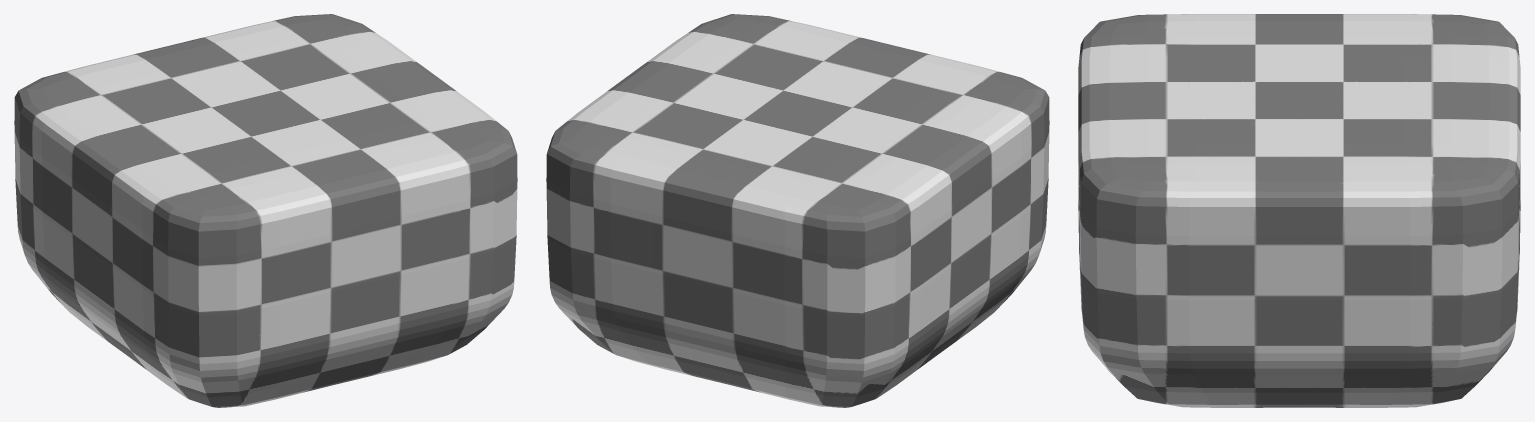
Rendered from evergreen_bush .glb.
The picture shows the model from 3 angles, left to right: view 1: azimuth 30°, elevation 25°; view 2: azimuth 150°, elevation 25°; view 3: azimuth 270°, elevation 25°; orthographic projection. The views are drawn at different scales.
Parts seen in each view (by area): view 1: bush_2x2_00; view 2: bush_2x2_00; view 3: bush_2x2_00.
Part boxes in pixels (bbox=[...]): bush_2x2_00: bbox=[14, 14, 517, 407]; bush_2x2_00: bbox=[546, 14, 1049, 407]; bush_2x2_00: bbox=[1078, 14, 1520, 407].
Size of what is drawn, in the model's own units: 1.96 by 1.25 by 1.96.
Materials: 1 (1 with a texture image).
